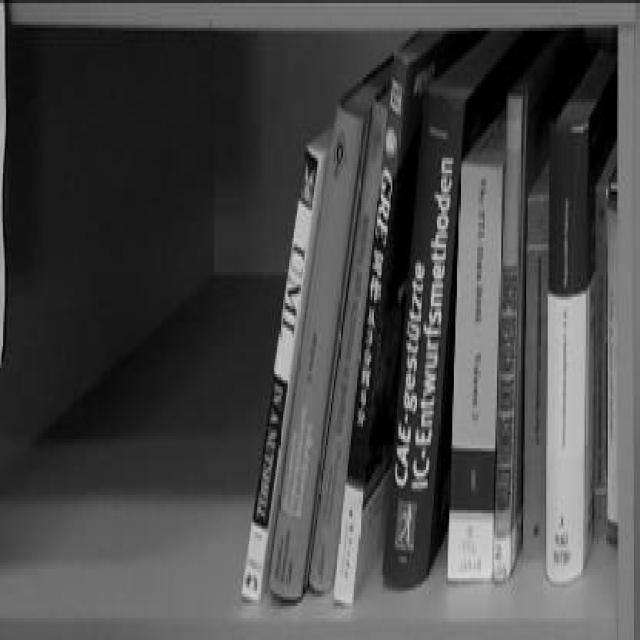book: (541, 111, 600, 570), (385, 158, 439, 582), (456, 174, 489, 581), (497, 93, 522, 579)
